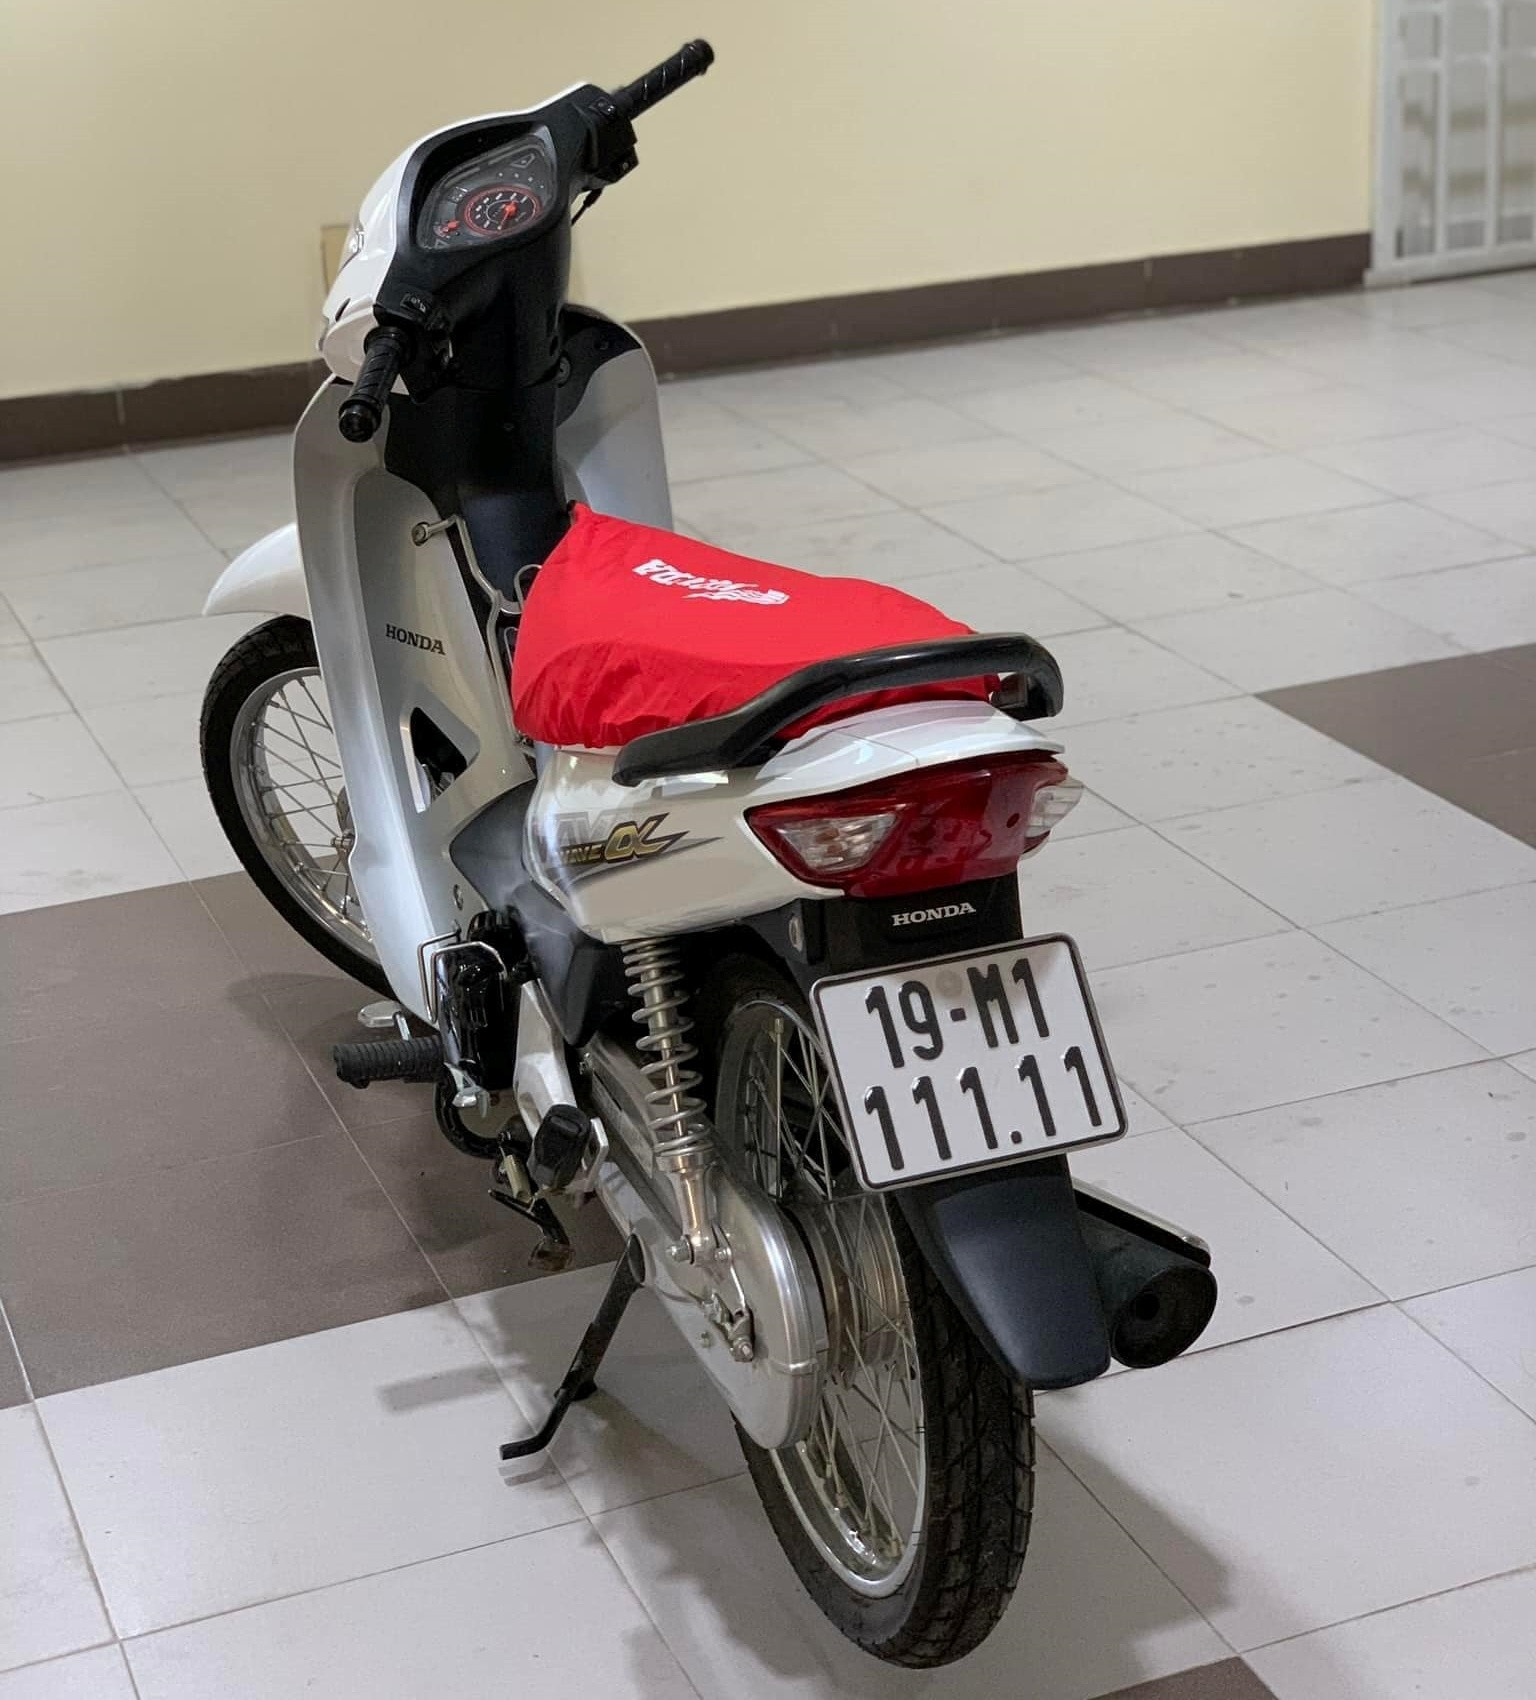bien_so: (814, 941, 1127, 1186)
